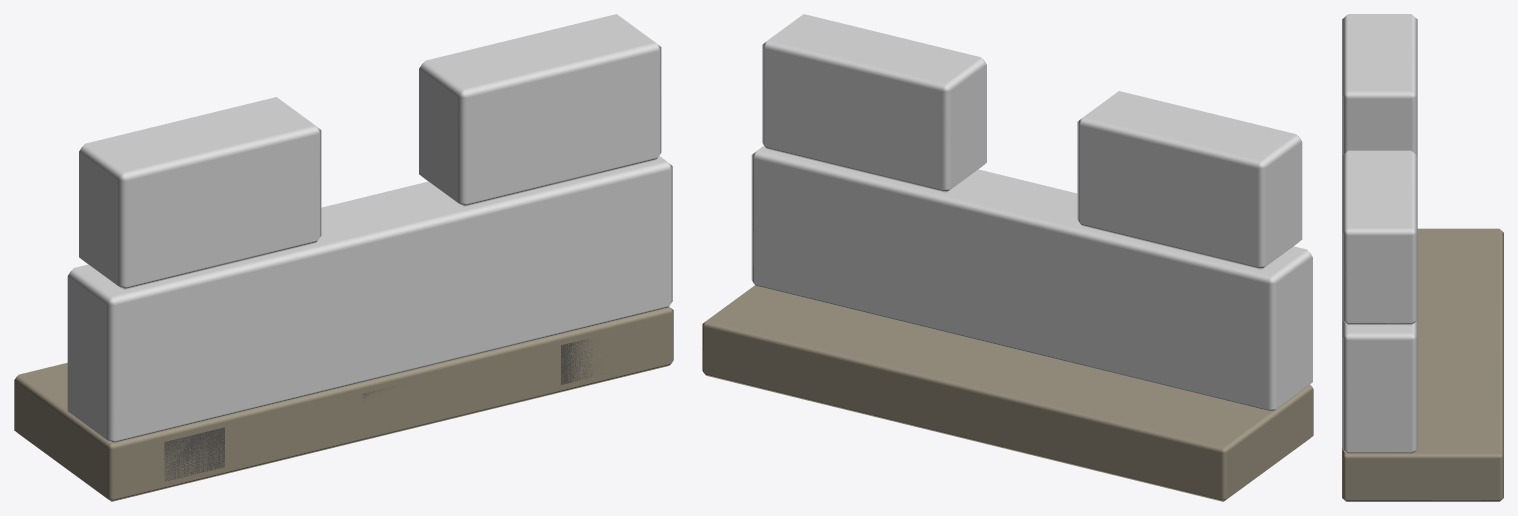
File: stone-halls-battlement.412a93da.glb
3 renders of one model, left to right at view 1: azimuth 30°, elevation 25°; view 2: azimuth 150°, elevation 25°; view 3: azimuth 270°, elevation 25°, orthographic. The views are drawn at different scales.
Visible parts, largest first — view 1: body; view 2: body; view 3: body.
Part boxes in pixels (<box>): body: <box>14,14,673,501</box>; body: <box>702,14,1313,501</box>; body: <box>1342,14,1503,501</box>.
Size of the model in its own units: 1 by 0.55 by 0.3.
